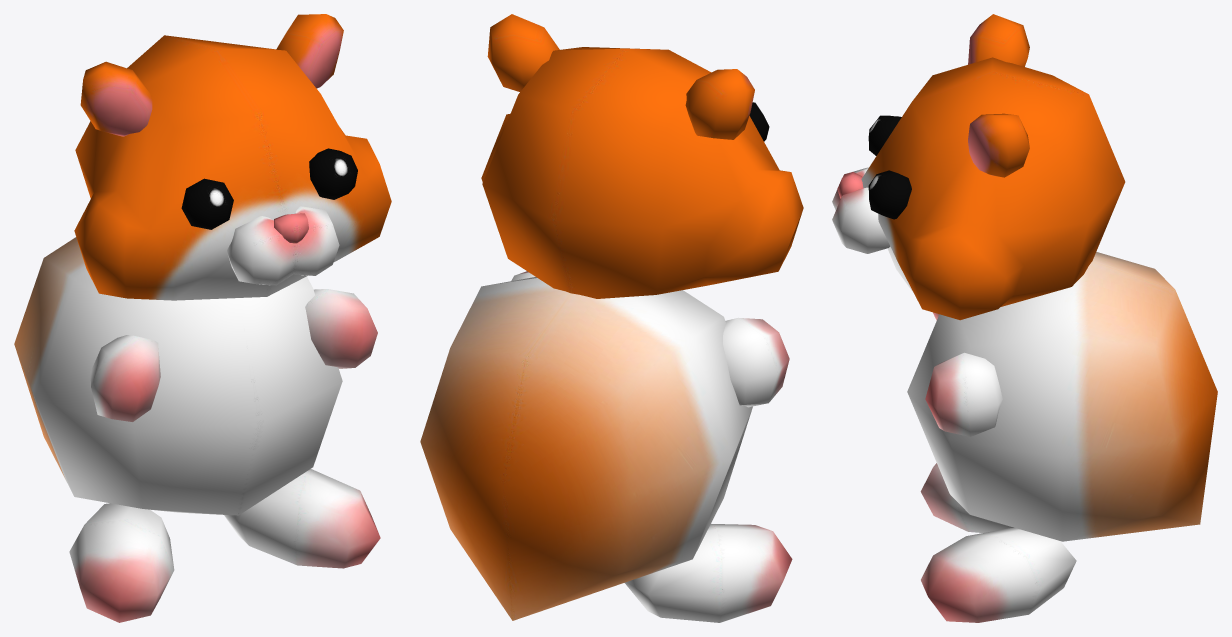
File: sf_hamster.glb
The picture shows the model from 3 angles, left to right: view 1: azimuth 30°, elevation 25°; view 2: azimuth 150°, elevation 25°; view 3: azimuth 270°, elevation 25°; orthographic projection. The views are drawn at different scales.
Parts seen in each view (by area): view 1: Hamster_M_Hamster_0; view 2: Hamster_M_Hamster_0; view 3: Hamster_M_Hamster_0.
Boxes of the visible parts, bbox=[...] form: Hamster_M_Hamster_0: bbox=[14, 14, 391, 622]; Hamster_M_Hamster_0: bbox=[420, 14, 803, 622]; Hamster_M_Hamster_0: bbox=[832, 14, 1217, 622].
Bounding box in the file's own units: 0.2604 × 0.45 × 0.3087.
Materials: 1 (1 with a texture image).
